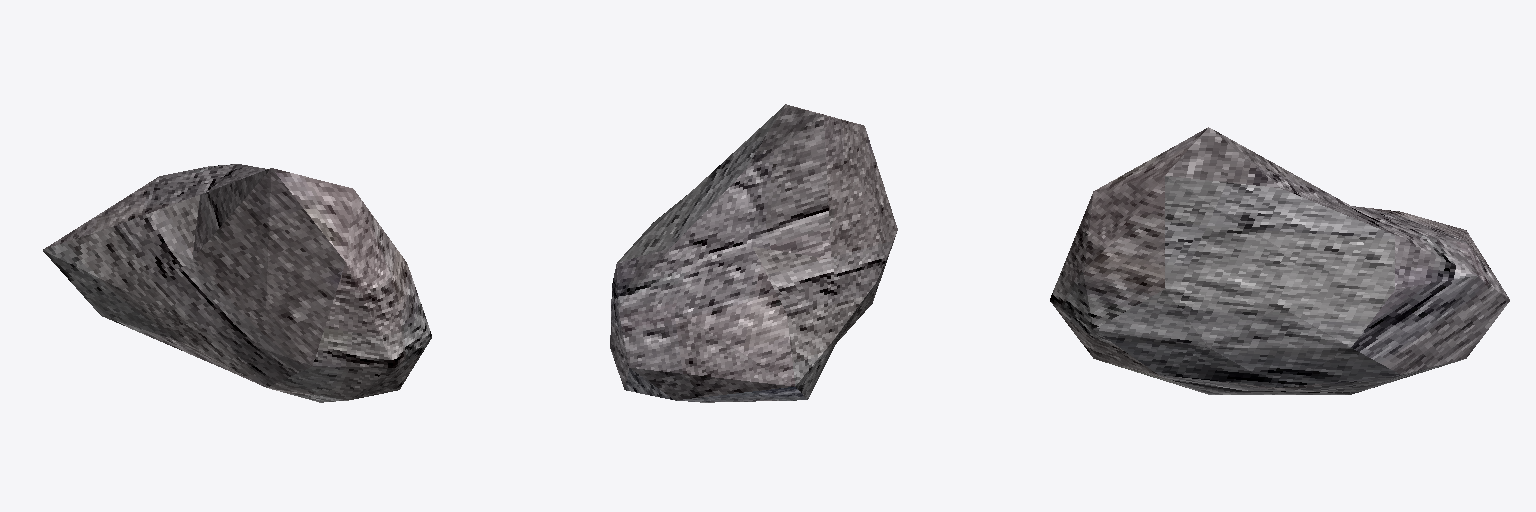
The picture shows the model from 3 angles: view 1: azimuth 30°, elevation 25°; view 2: azimuth 150°, elevation 25°; view 3: azimuth 270°, elevation 25°; orthographic projection.
Visible parts, largest first — view 1: Icosphere; view 2: Icosphere; view 3: Icosphere.
Boxes of the visible parts, x1=… form: Icosphere: x1=43, y1=164, x2=431, y2=402; Icosphere: x1=610, y1=104, x2=897, y2=402; Icosphere: x1=1050, y1=127, x2=1509, y2=394.
Size of the model in its own units: 2.36 by 2.23 by 3.91.
Materials: 1 (1 with a texture image).